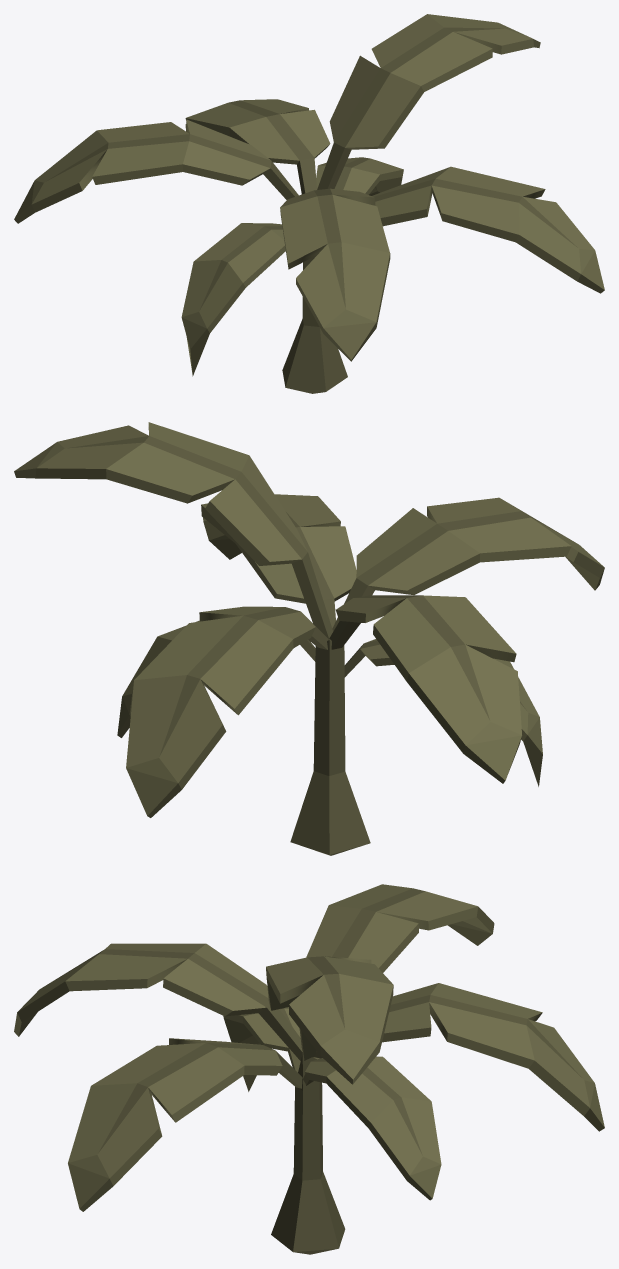
Rendered from SM_Env_Fern_02.glb.
3 renders of one model, top to bottom at view 1: azimuth 30°, elevation 25°; view 2: azimuth 150°, elevation 25°; view 3: azimuth 270°, elevation 25°, orthographic. The views are drawn at different scales.
Parts seen in each view (by area): view 1: SM_Env_Fern_02; view 2: SM_Env_Fern_02; view 3: SM_Env_Fern_02.
Boxes of the visible parts, <box> form: SM_Env_Fern_02: <box>14,14,604,393</box>; SM_Env_Fern_02: <box>14,422,604,855</box>; SM_Env_Fern_02: <box>14,884,604,1254</box>.
Size of the model in its own units: 2.77 by 1.81 by 2.7.
1 material, 1 textured.
